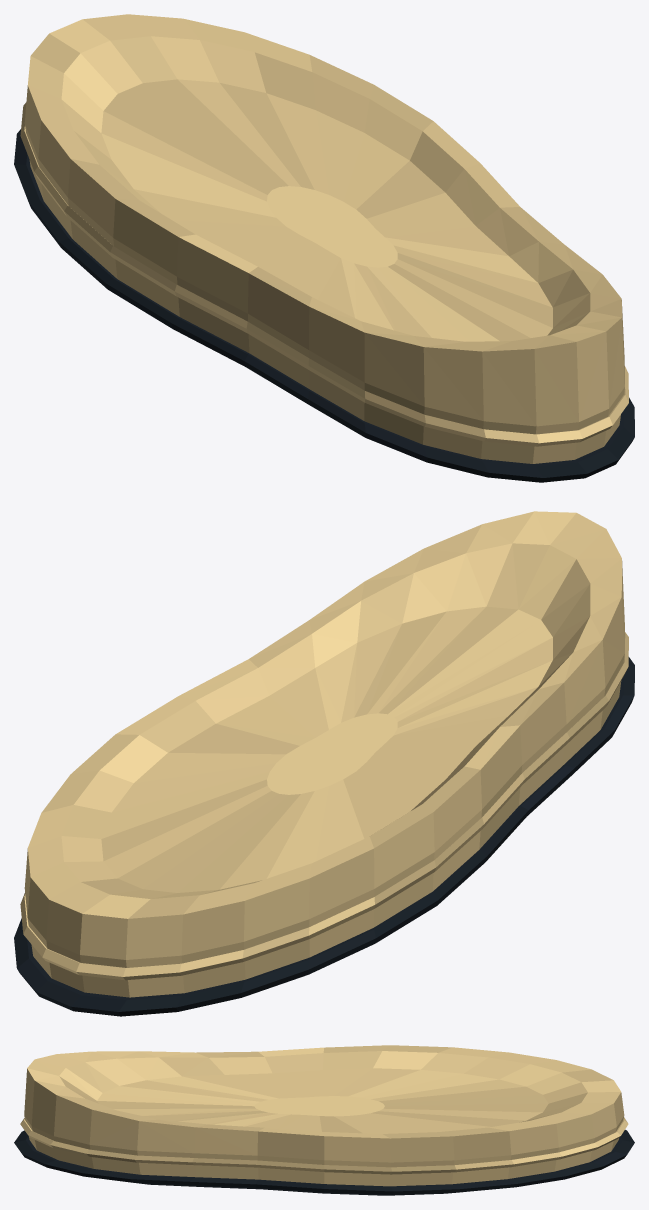
The model's file is ES_01_Cork_Cupped_Footbed.fbx.
3 views of the same model, one above another, from view 1: azimuth 30°, elevation 25°; view 2: azimuth 150°, elevation 25°; view 3: azimuth 270°, elevation 25° (orthographic). The views are drawn at different scales.
Parts seen in each view (by area): view 1: ES_01_Cork_Cupped_Footbed; view 2: ES_01_Cork_Cupped_Footbed; view 3: ES_01_Cork_Cupped_Footbed.
Part boxes in pixels (x1,y1,x2,y2): ES_01_Cork_Cupped_Footbed: (14, 14, 634, 482); ES_01_Cork_Cupped_Footbed: (14, 511, 634, 1016); ES_01_Cork_Cupped_Footbed: (14, 1045, 634, 1195).
Bounding box in the file's own units: 0.9748 × 0.39 × 2.62.
Materials: 2 (2 with a texture image).
